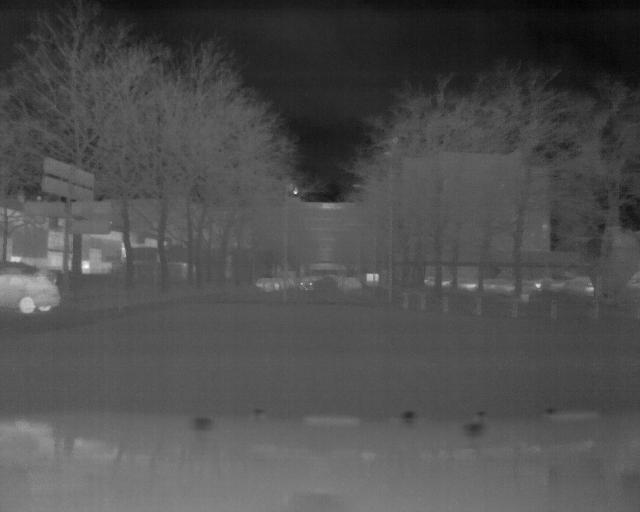car: (1, 271, 62, 316)
